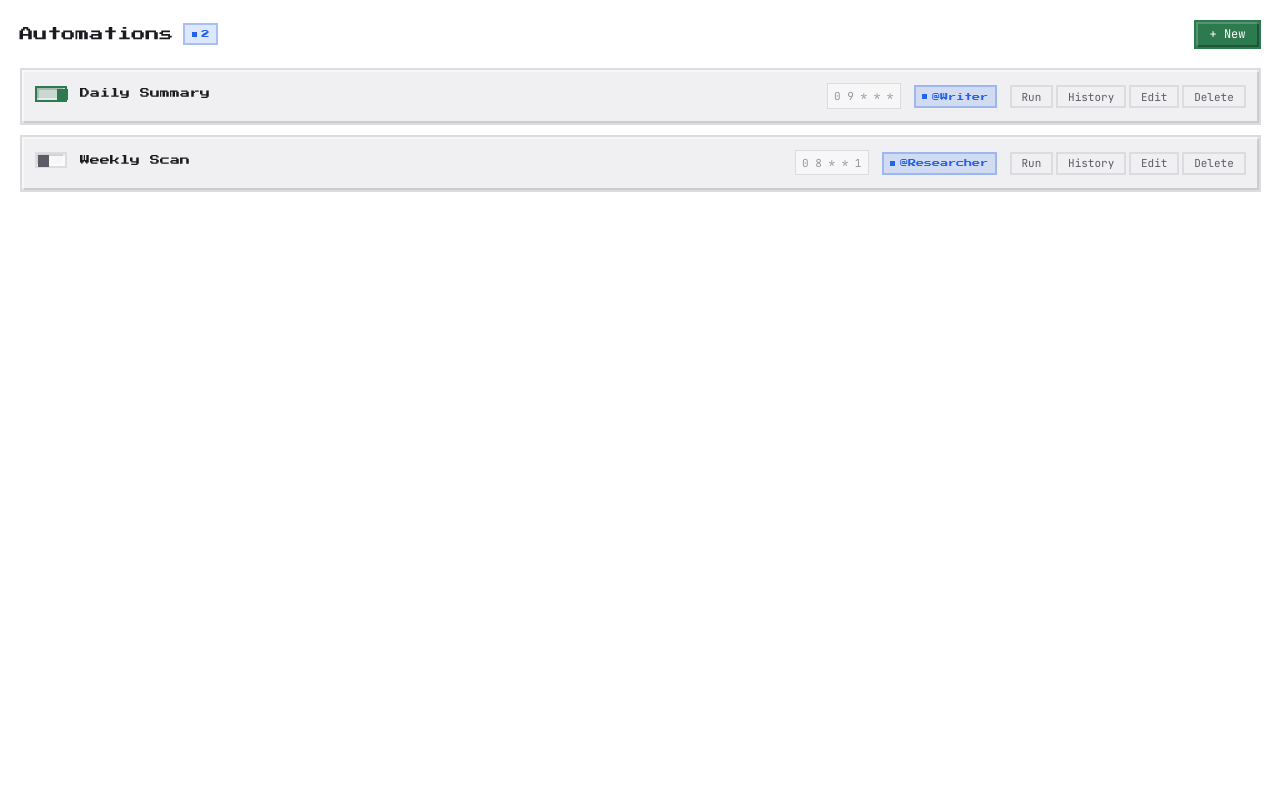
Test: CronJobsPage › opens delete confirmation when clicking Delete
What coordinates should you click on to do the following:
click the button "Delete" in the row of "Writer"
I would click on:
 (1214, 97)
Its box is [1182, 85, 1246, 108].
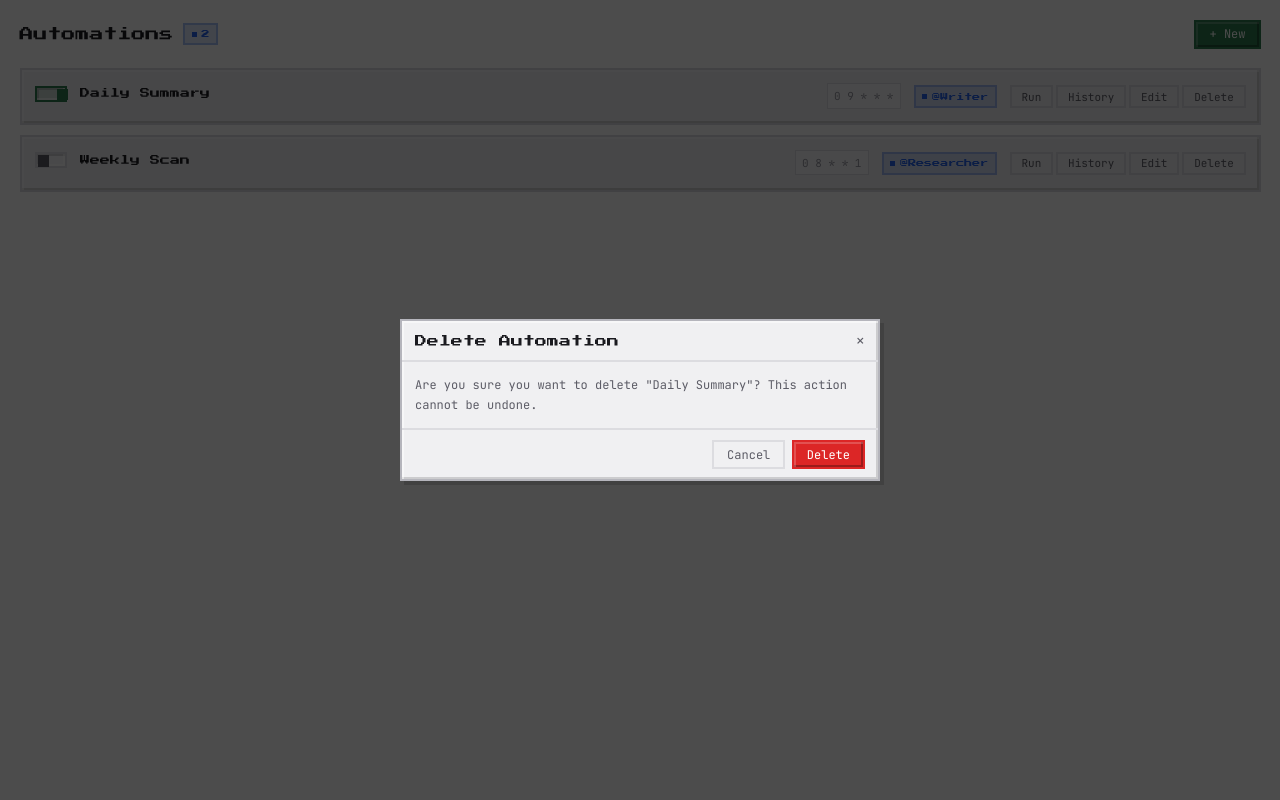
expect the heading "Delete Automation" is shown: met, box [415, 331, 619, 351]
expect the text "Are you sure you want to delete \"Daily Summary\"" is shown: met, box [415, 377, 847, 413]
